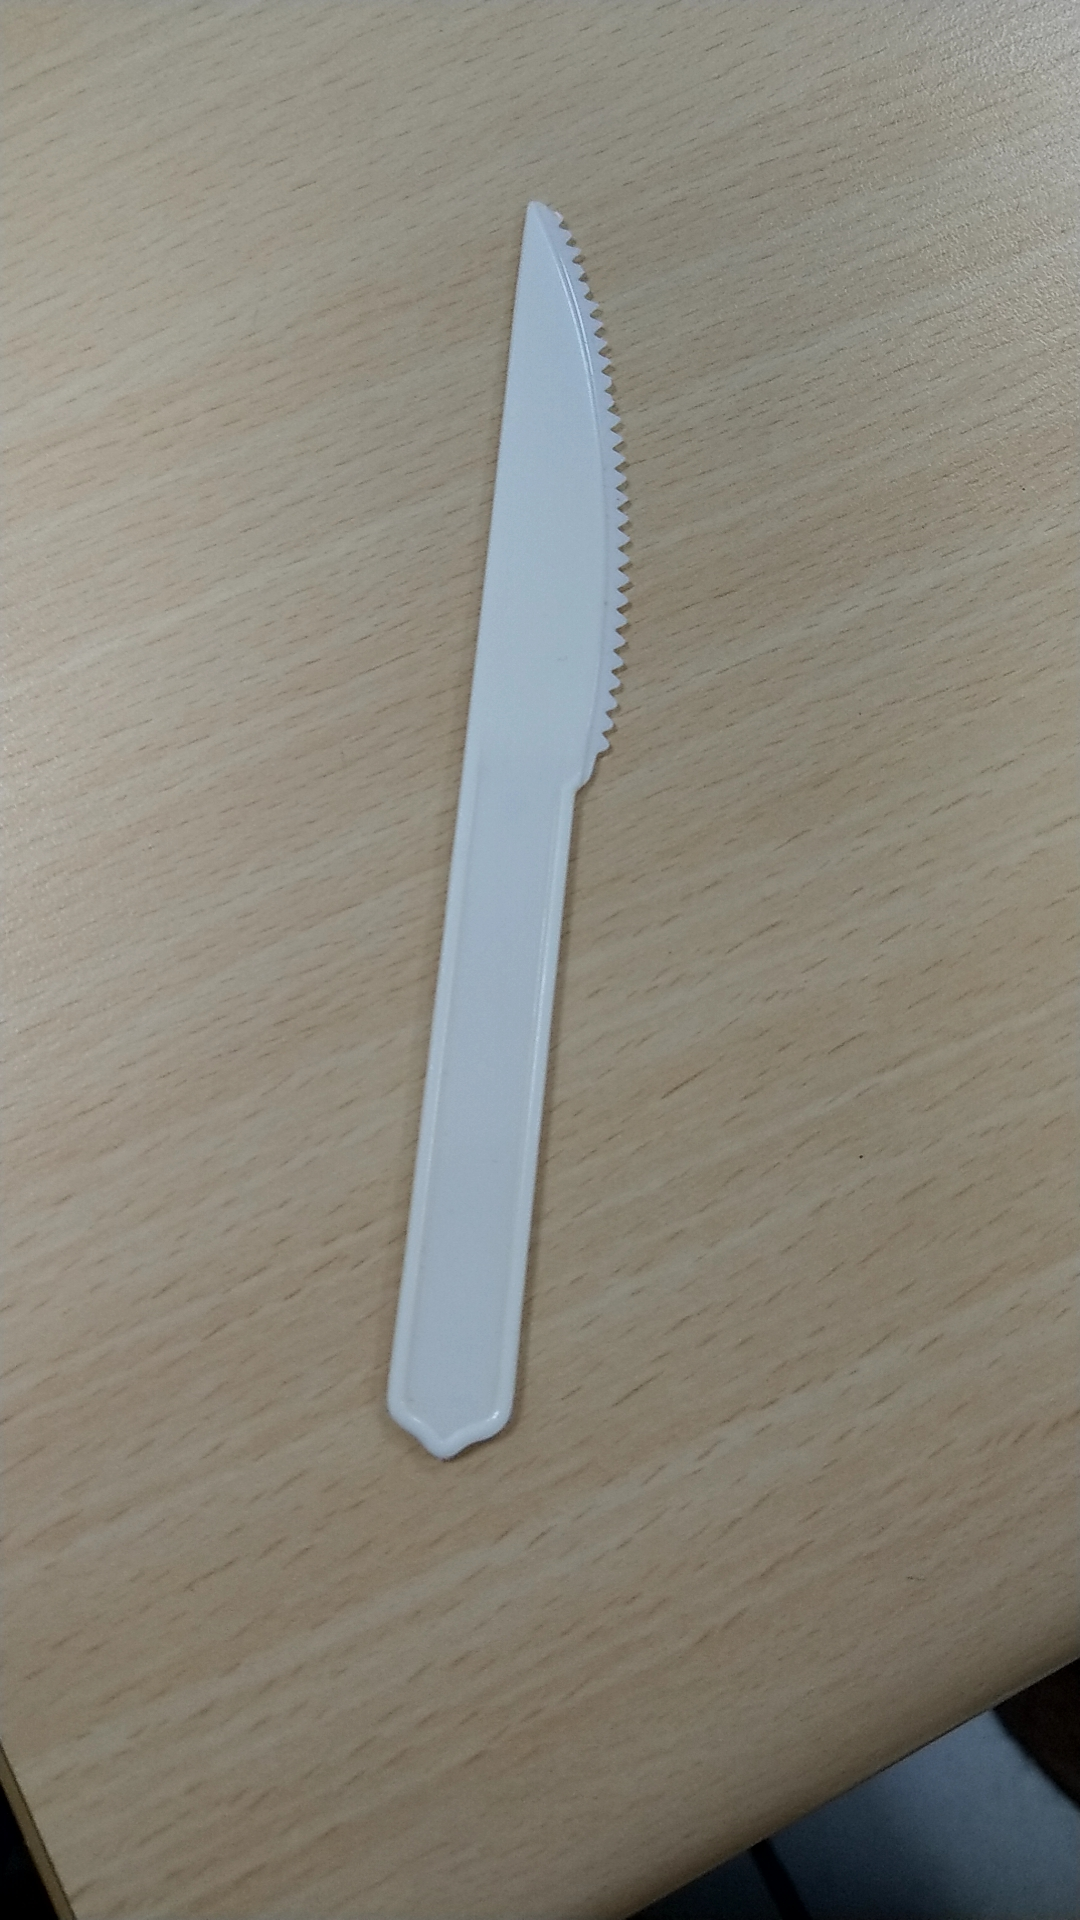knife: (363, 157, 647, 1464)
